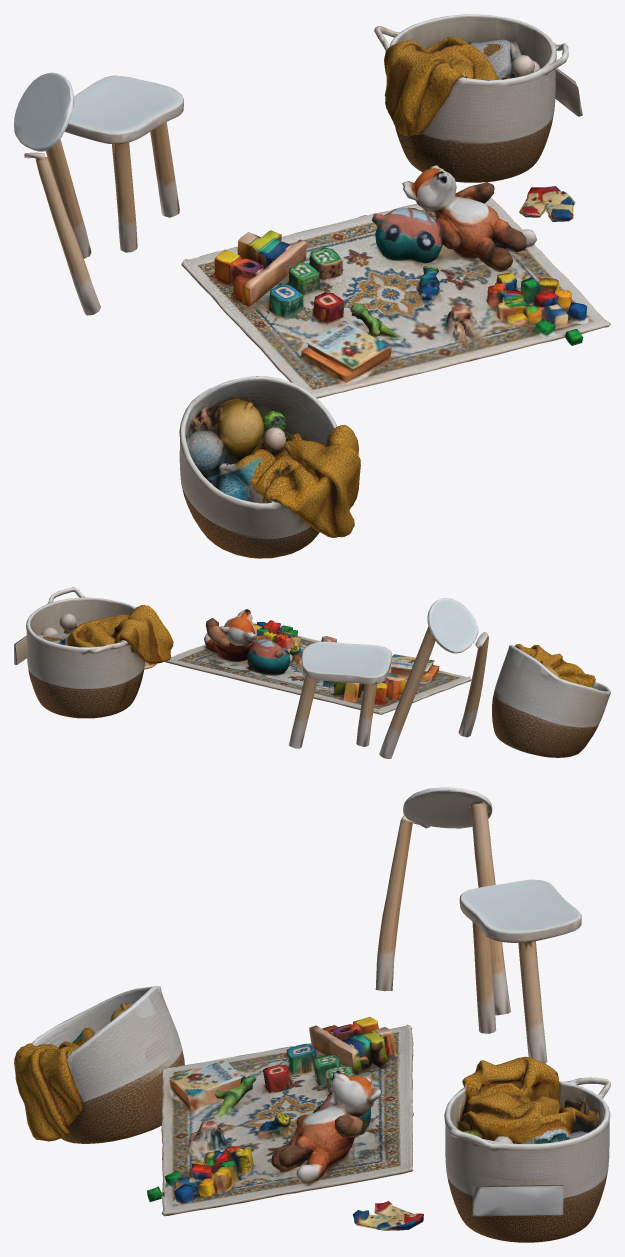
File: scene_toy_corner.glb
3 views of the same model, one above another, from view 1: azimuth 30°, elevation 25°; view 2: azimuth 150°, elevation 25°; view 3: azimuth 270°, elevation 25° (orthographic). The views are drawn at different scales.
Visible parts, largest first — view 1: tripo_node_8e1af371-c406-4e9b-92e5-6e38d0a70e04; view 2: tripo_node_8e1af371-c406-4e9b-92e5-6e38d0a70e04; view 3: tripo_node_8e1af371-c406-4e9b-92e5-6e38d0a70e04.
Boxes of the visible parts, <box> form: tripo_node_8e1af371-c406-4e9b-92e5-6e38d0a70e04: <box>14,14,610,558</box>; tripo_node_8e1af371-c406-4e9b-92e5-6e38d0a70e04: <box>14,587,610,758</box>; tripo_node_8e1af371-c406-4e9b-92e5-6e38d0a70e04: <box>14,787,610,1242</box>.
Size of the model in its own units: 0.9799 by 0.5472 by 0.8853.
1 material, 1 textured.
